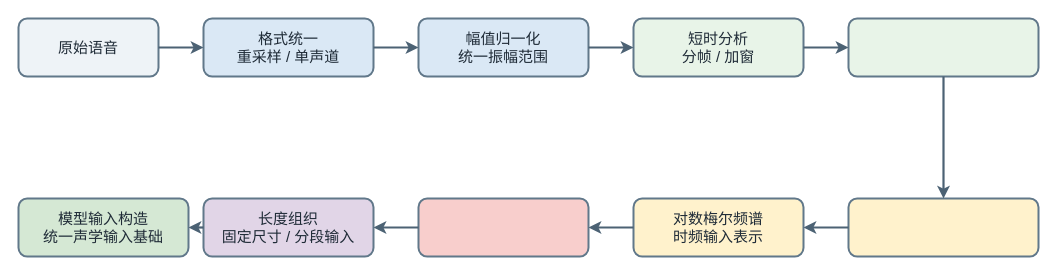
Some shapes in this 1056 by 274 pixel diagram are drawn without their labels. Here are the shapes that lost their labels. From the top down, the box of each, then its label:
(847, 17, 1039, 77): 短时傅里叶变换 功率谱表示
(417, 197, 589, 257): 特征标准化 降低尺度差异
(847, 197, 1039, 257): 梅尔滤波器组 频带能量汇总
